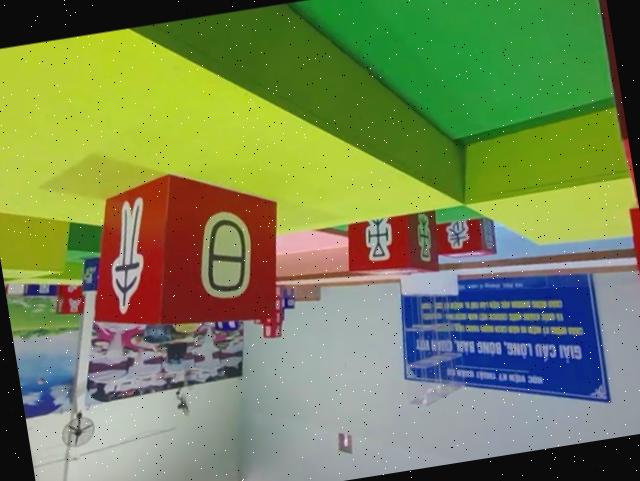R2 Fake: (69, 154, 295, 346), (430, 206, 498, 262)
R2 Real: (340, 199, 443, 286)
